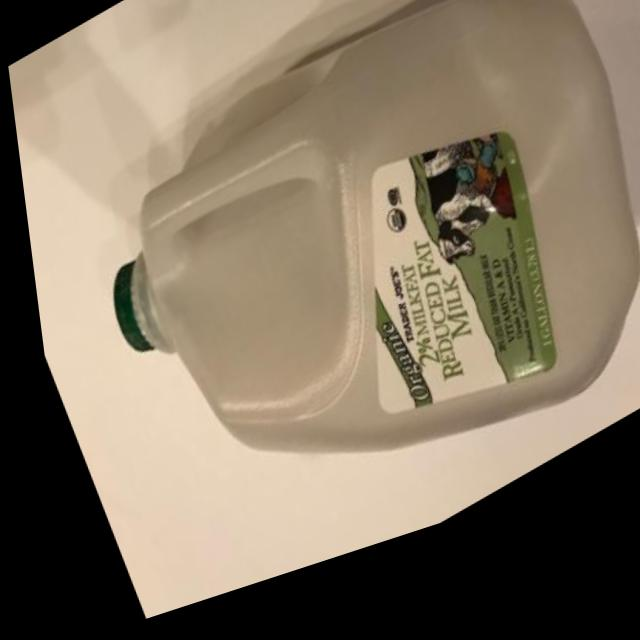plastic: (28, 0, 640, 635)
